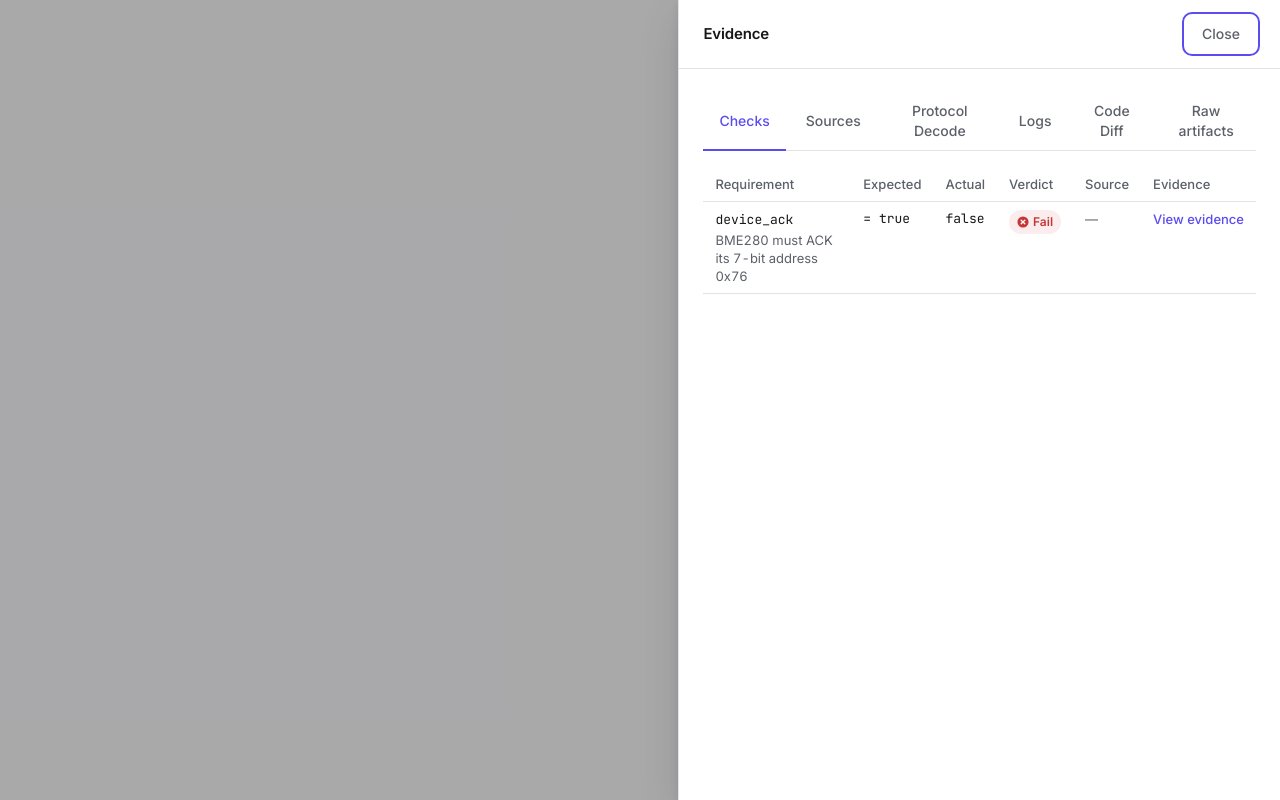
EvidenceDrawer tabs › switches to each content tab by hand, rendering the latest subject of its kind
The width and height of the screenshot is (1280, 800).
Click the tab "Protocol Decode" at [940, 122], box [881,93,999,151]
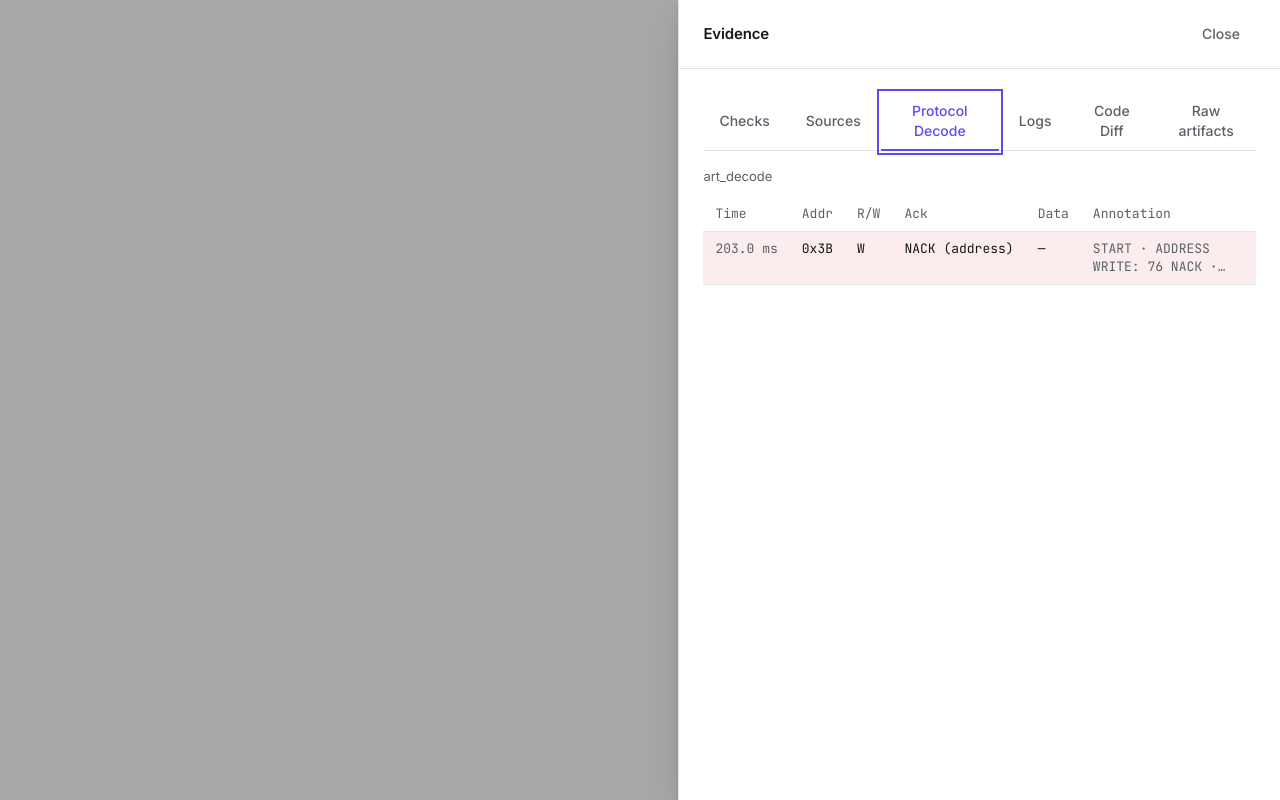
expect the table named "Decoded transactions" is shown: met, box [703,197,1256,285]
Click the tab "Logs" at [1035, 122], box [1003,93,1067,151]
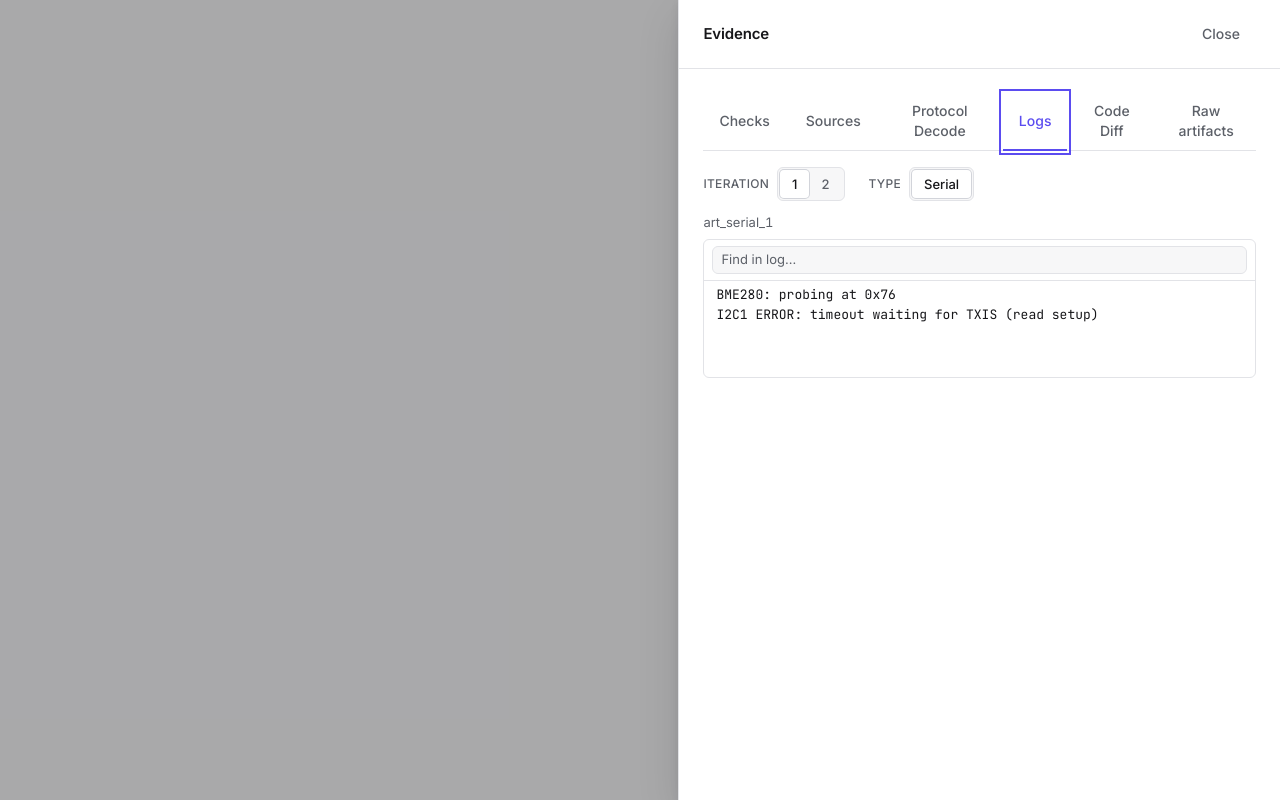
Click the tab "Code Diff" at [1112, 122], box [1071,93,1152,151]
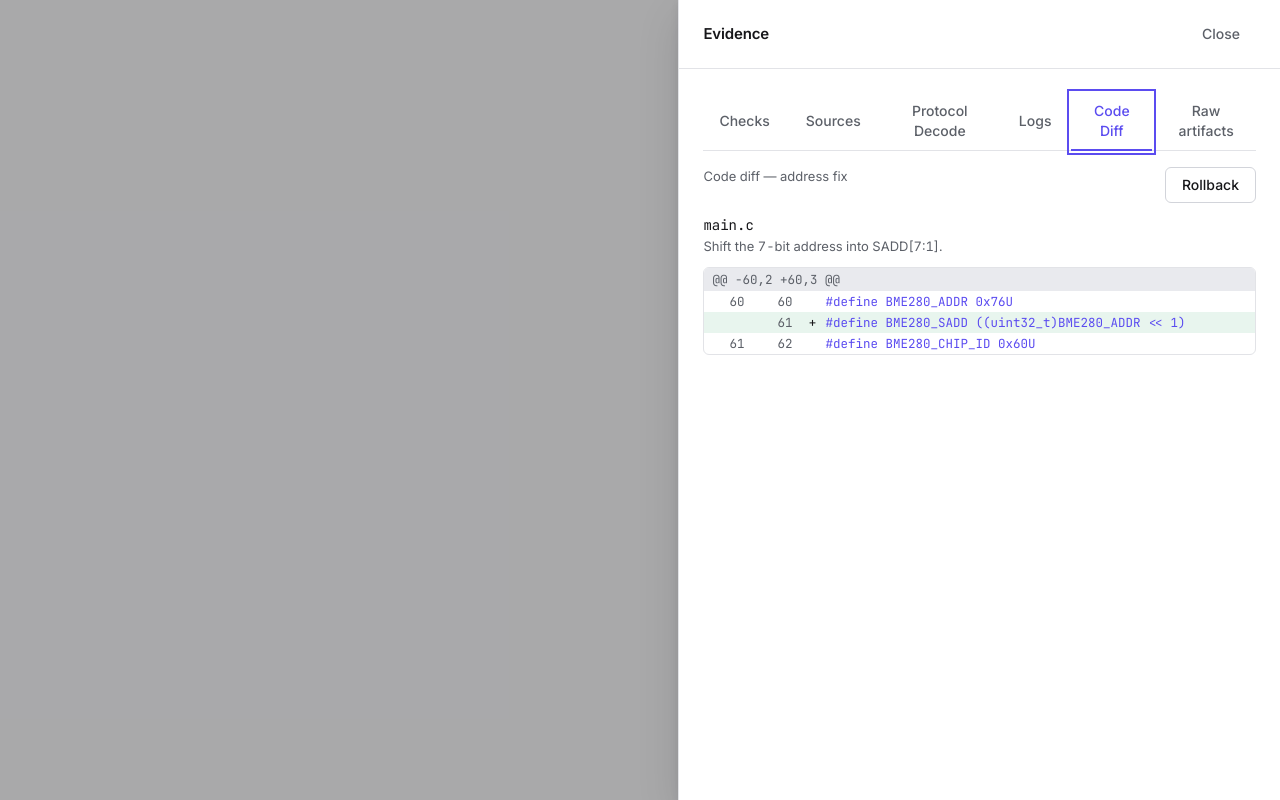
expect the text "main.c" is shown: met, box [703,216,754,234]
Click the tab "Raw artifacts" at [1206, 122], box [1156,93,1256,151]
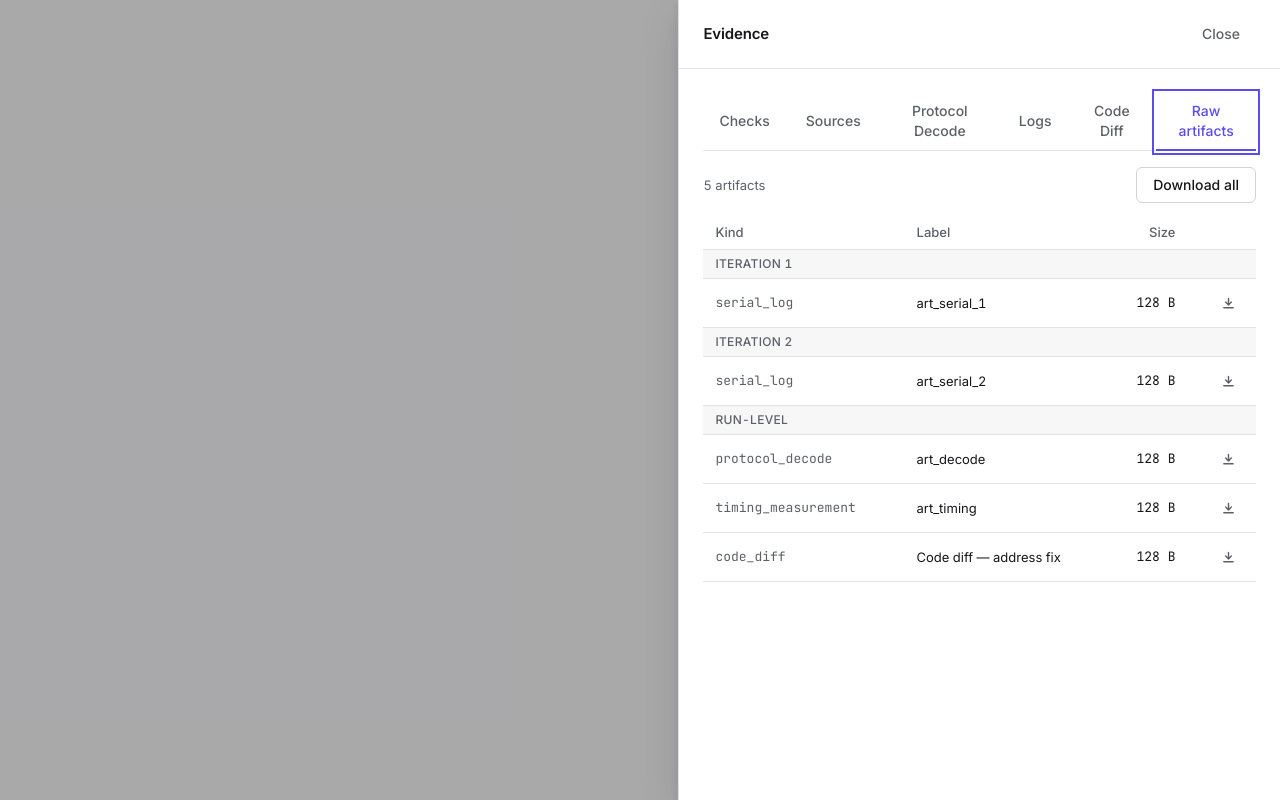
expect the table named "Raw artifacts" is shown: met, box [703,215,1256,582]
